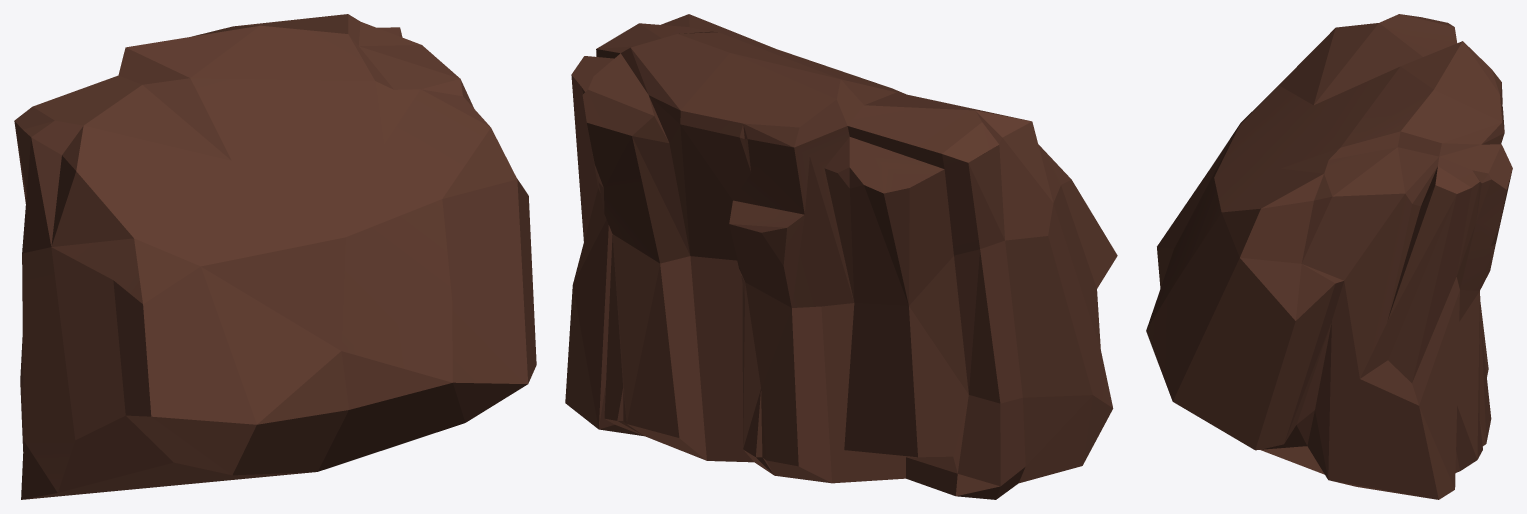
The model's file is entity106896.glb.
3 views of the same model, side by side, from view 1: azimuth 30°, elevation 25°; view 2: azimuth 150°, elevation 25°; view 3: azimuth 270°, elevation 25° (orthographic). The views are drawn at different scales.
Visible parts, largest first — view 1: node_SM_Env_Cliff_Curved_02 (3); view 2: node_SM_Env_Cliff_Curved_02 (3); view 3: node_SM_Env_Cliff_Curved_02 (3).
Boxes of the visible parts, box(x1,y1,x2,y2) form: node_SM_Env_Cliff_Curved_02 (3): box(14, 14, 536, 499); node_SM_Env_Cliff_Curved_02 (3): box(565, 14, 1117, 499); node_SM_Env_Cliff_Curved_02 (3): box(1146, 14, 1512, 499).
Size of the model in its own units: 22.24 by 17.32 by 16.01.
Materials: 1 (1 with a texture image).
